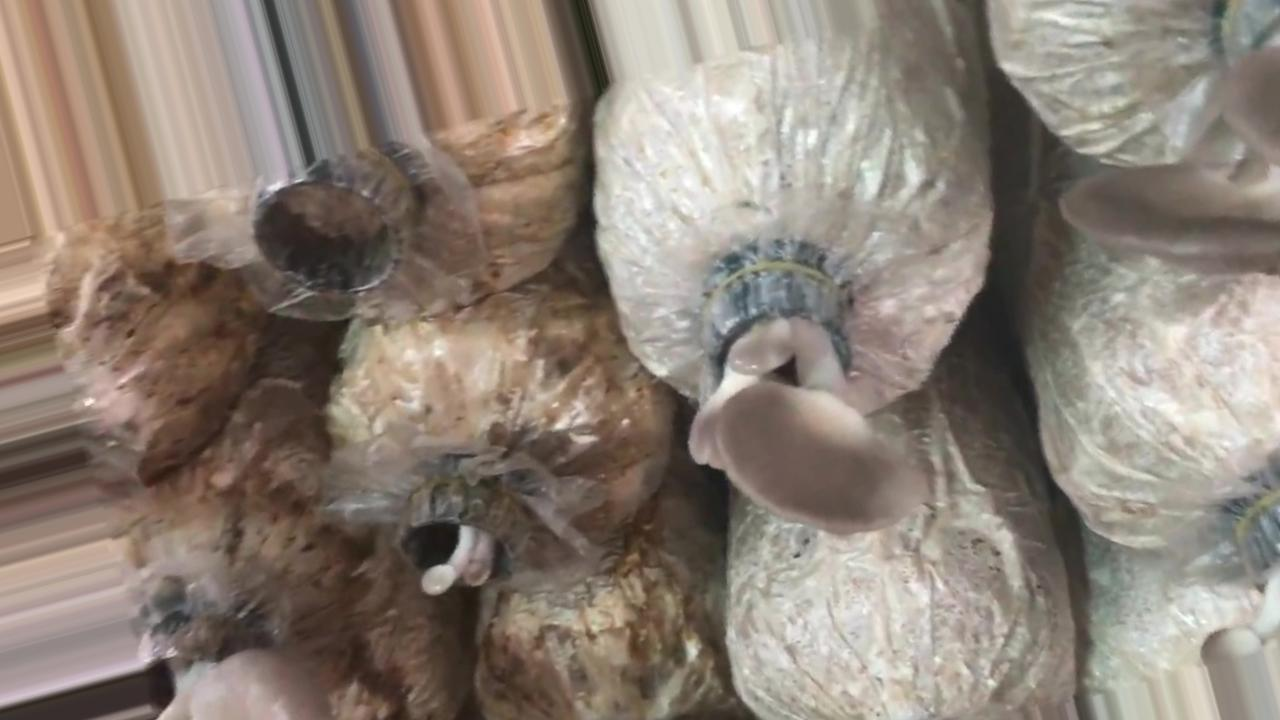nam: (689, 252, 925, 538), (1060, 1, 1276, 275), (398, 487, 514, 596)
